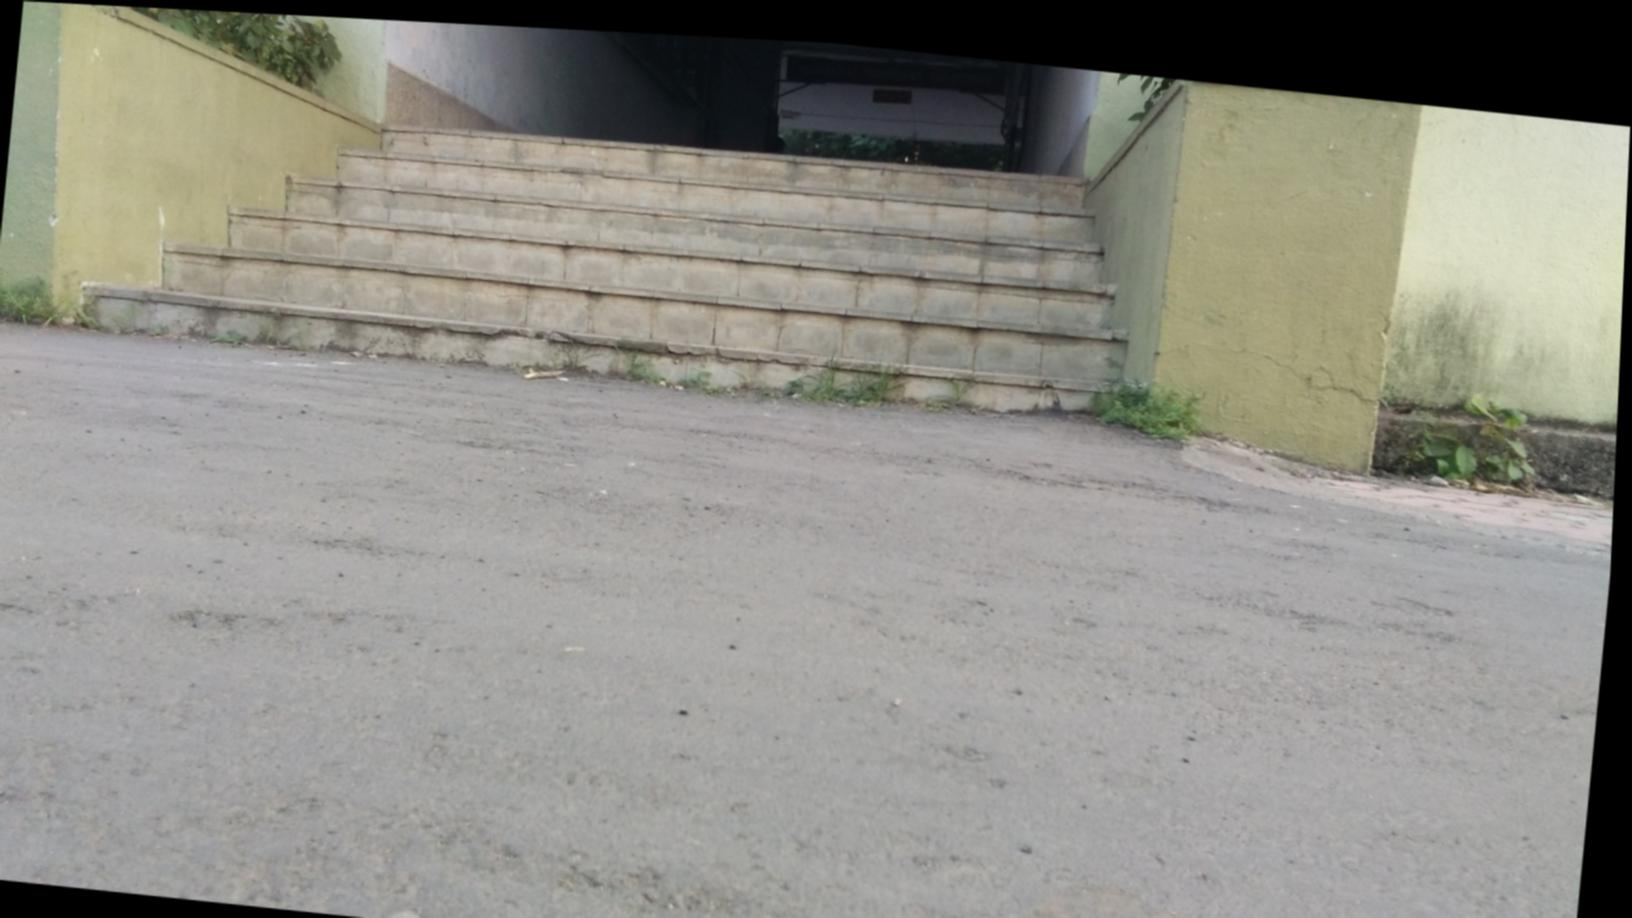Bench: (44, 73, 1181, 432)
